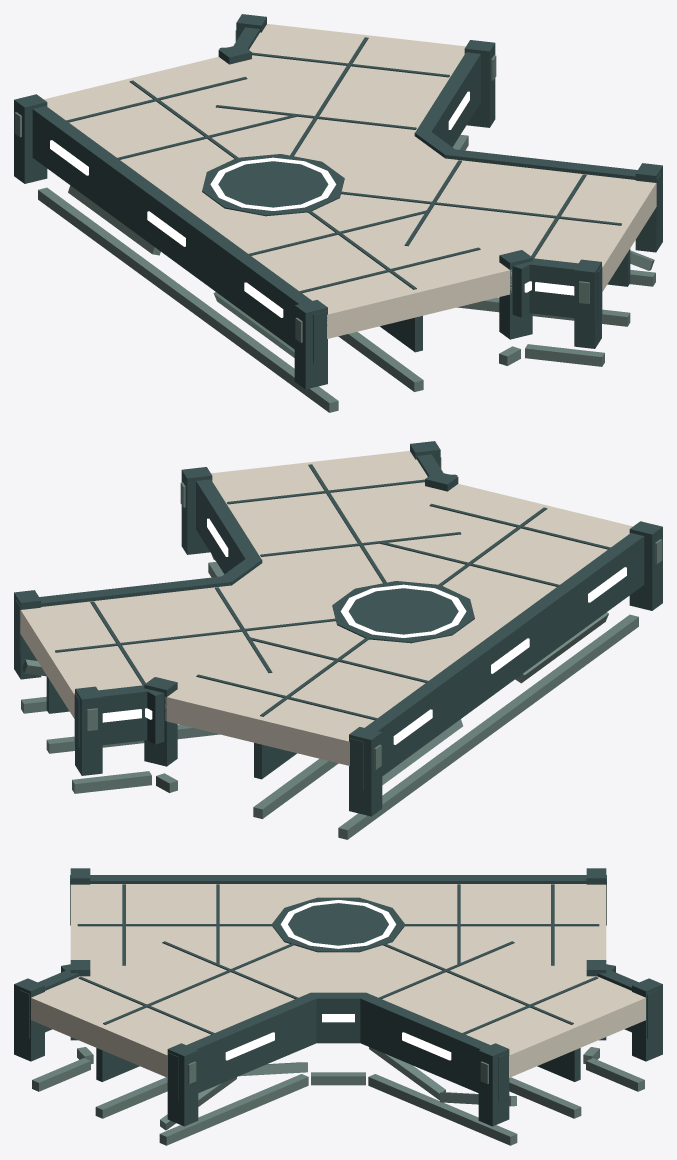
Rendered from Junction_Kletter_lab.glb.
3 renders of one model, top to bottom at view 1: azimuth 30°, elevation 25°; view 2: azimuth 150°, elevation 25°; view 3: azimuth 270°, elevation 25°, orthographic. The views are drawn at different scales.
Visible parts, largest first — view 1: Junction_Kletter; view 2: Junction_Kletter; view 3: Junction_Kletter.
Part boxes in pixels (left/top/right/bottom): Junction_Kletter: left=14, top=14, right=662, bottom=412; Junction_Kletter: left=14, top=441, right=662, bottom=839; Junction_Kletter: left=14, top=868, right=662, bottom=1145.
Size of the model in its own units: 6.34 by 1.58 by 9.21.
